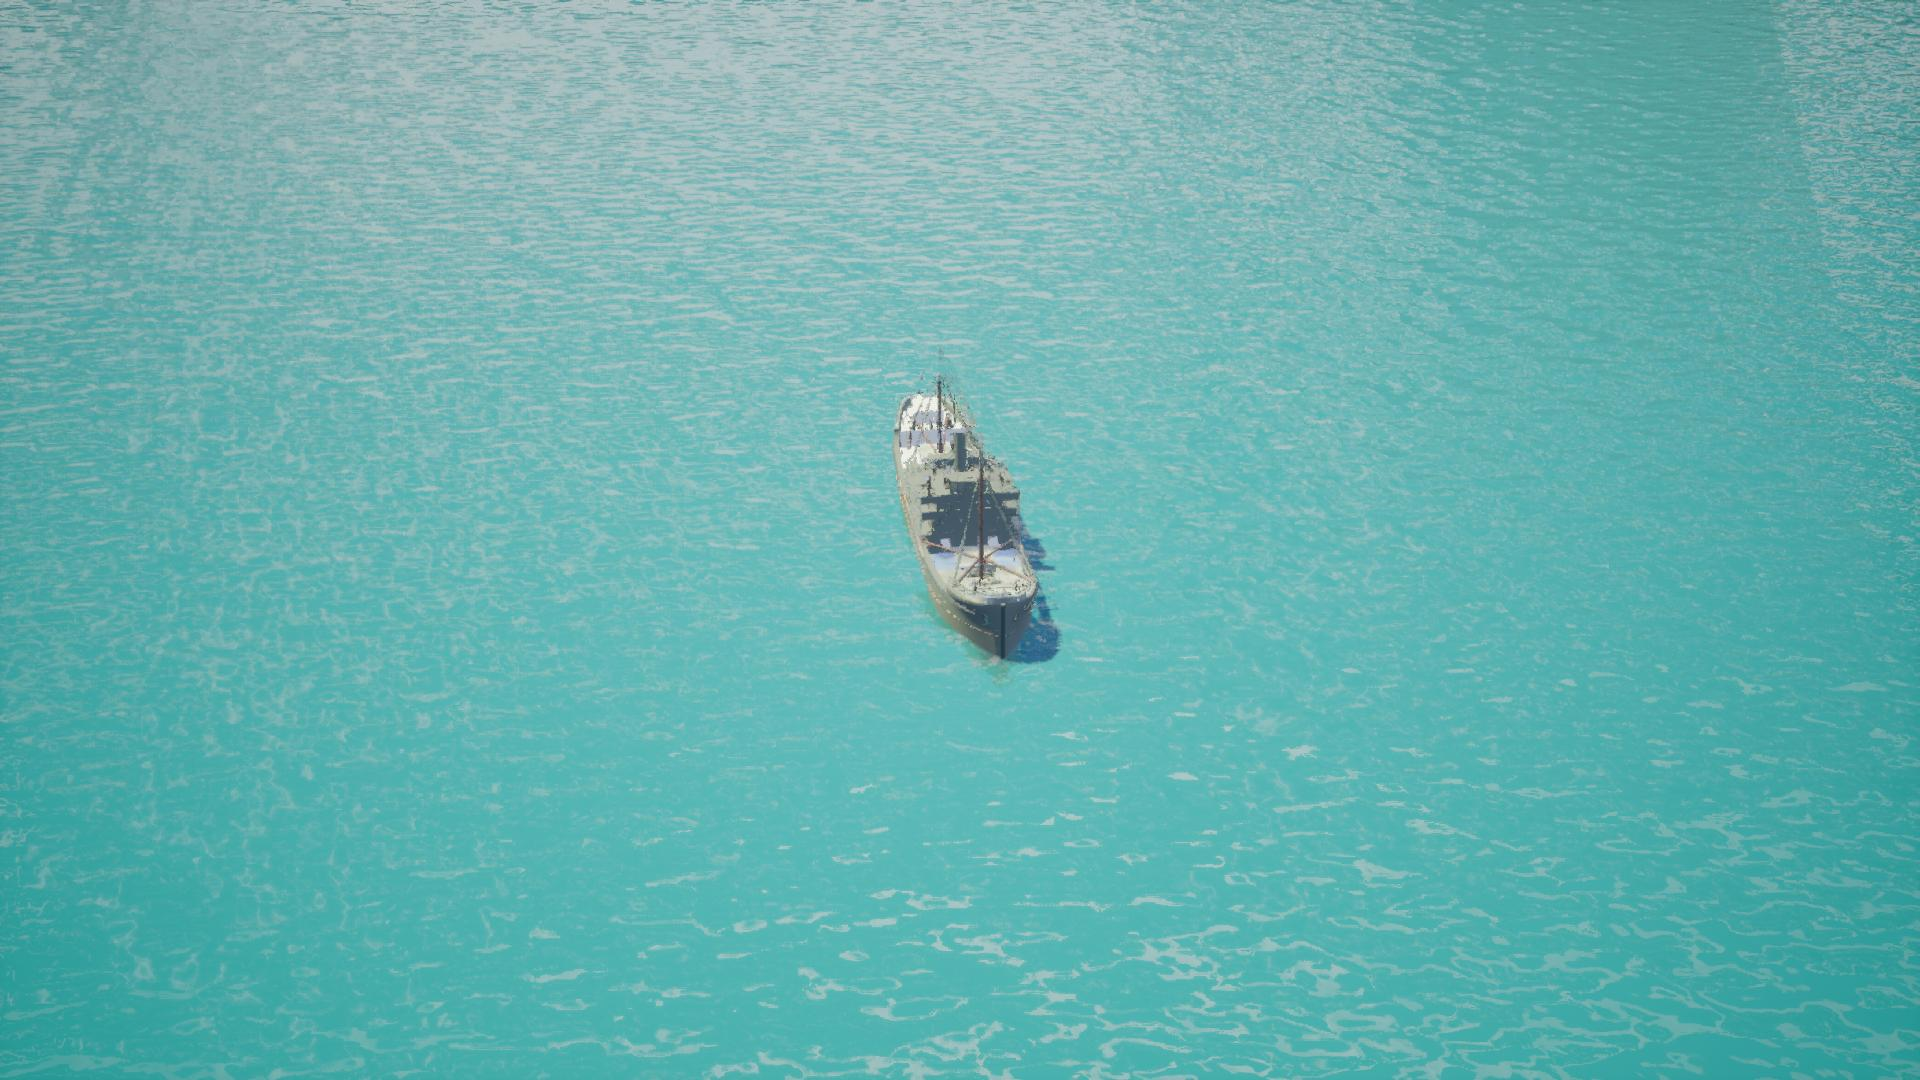Fishing Boat: (891, 377, 1047, 666)
